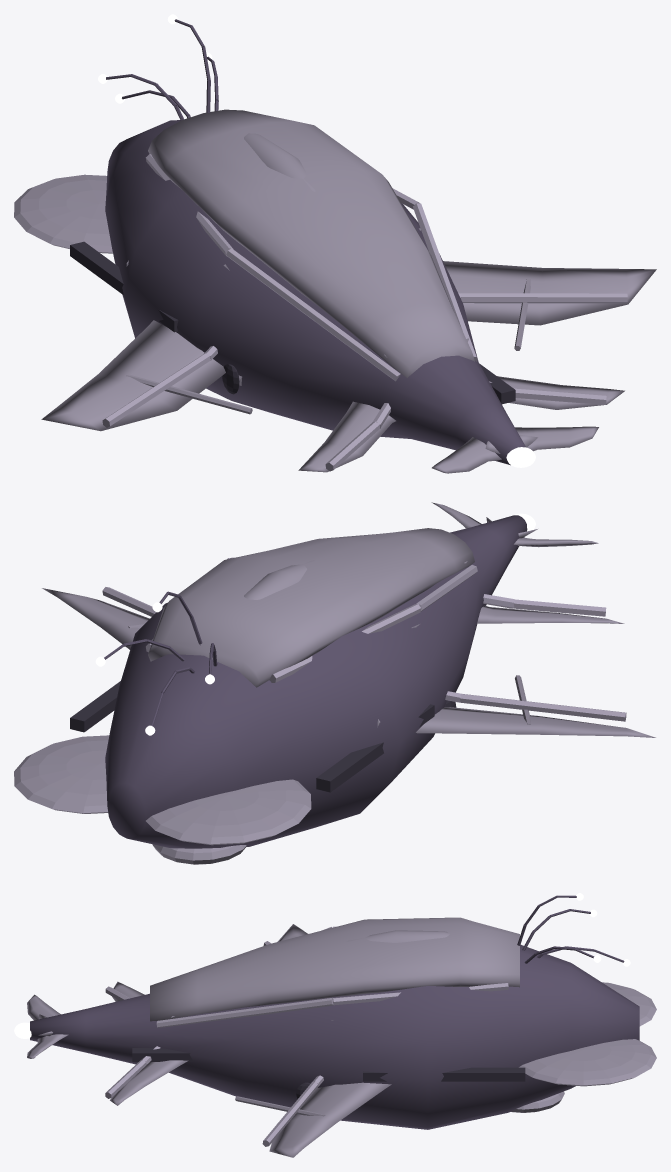
The picture shows the model from 3 angles, top to bottom: view 1: azimuth 30°, elevation 25°; view 2: azimuth 150°, elevation 25°; view 3: azimuth 270°, elevation 25°; orthographic projection. The views are drawn at different scales.
Parts seen in each view (by area): view 1: RIMWARD_HULL; view 2: RIMWARD_HULL; view 3: RIMWARD_HULL.
Part boxes in pixels (x1,y1,x2,y2): RIMWARD_HULL: (14,19,656,473); RIMWARD_HULL: (14,502,655,864); RIMWARD_HULL: (27,895,656,1157).
Bounding box in the file's own units: 6.96 × 3.14 × 8.08.
